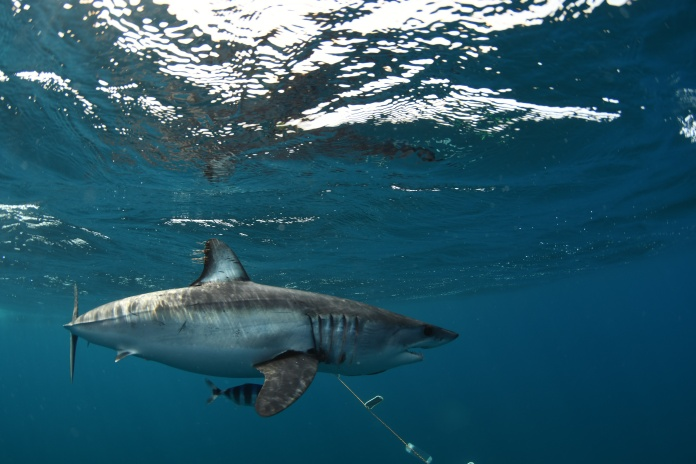Mako: (39, 228, 463, 427)
